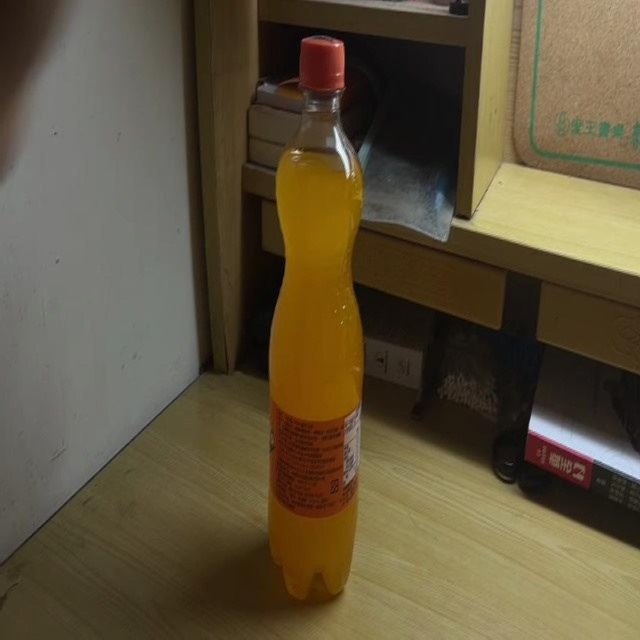Fanta: (266, 34, 364, 606)
